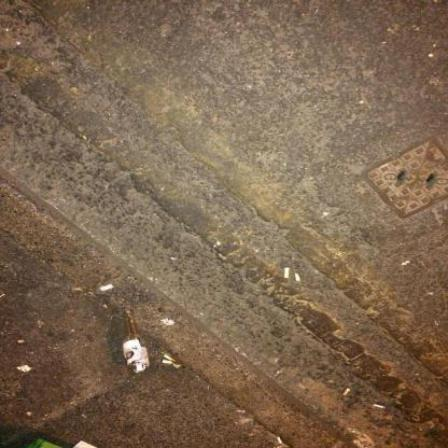Bottle: (124, 311, 152, 376)
Cigarette: (164, 356, 178, 364), (101, 284, 115, 292), (285, 269, 290, 279), (163, 361, 175, 365), (173, 366, 185, 370), (296, 274, 301, 282), (278, 439, 283, 445)
